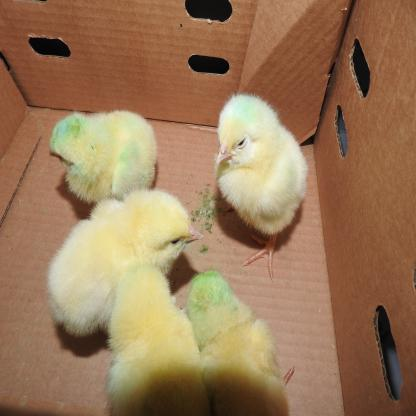Chickrotationtrack_idkeyframe: (33, 178, 187, 338), (206, 83, 316, 248), (100, 262, 201, 415), (190, 259, 286, 415), (38, 106, 172, 197)
